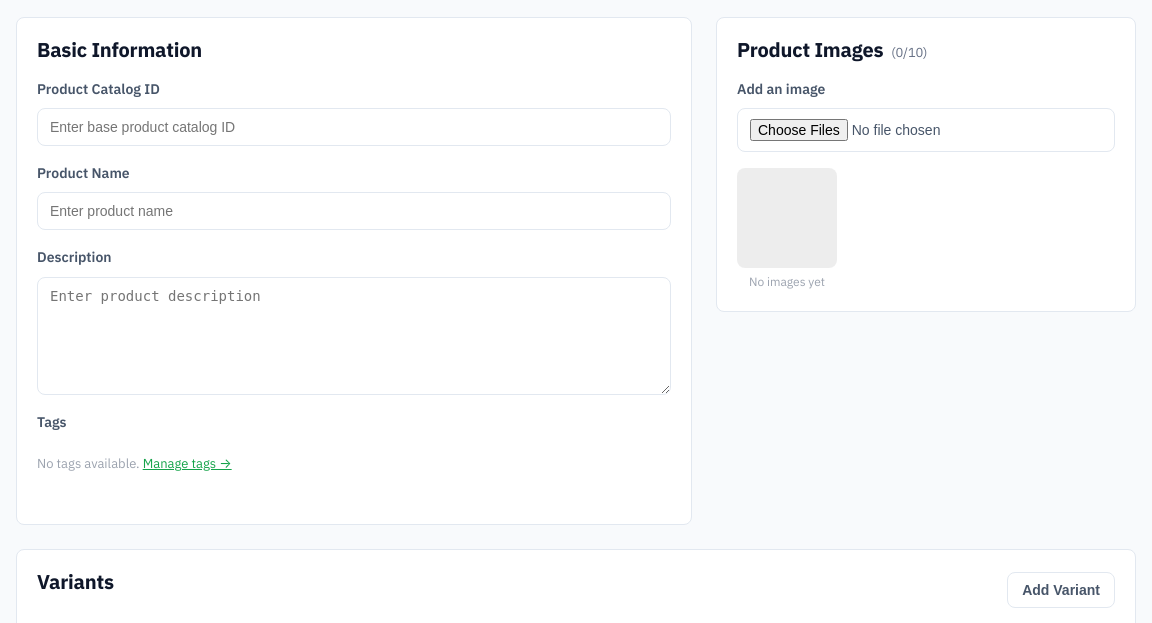
Test: AdminProductDetailPage › form validation — create mode › shows per-variant inline errors when a variant is added and submitted empty
This screenshot has width=1152, height=623.
Step 1. Click the button "Add Variant" → coordinates (1061, 590), box left=1007, top=572, right=1115, bottom=608
(page scrolled)
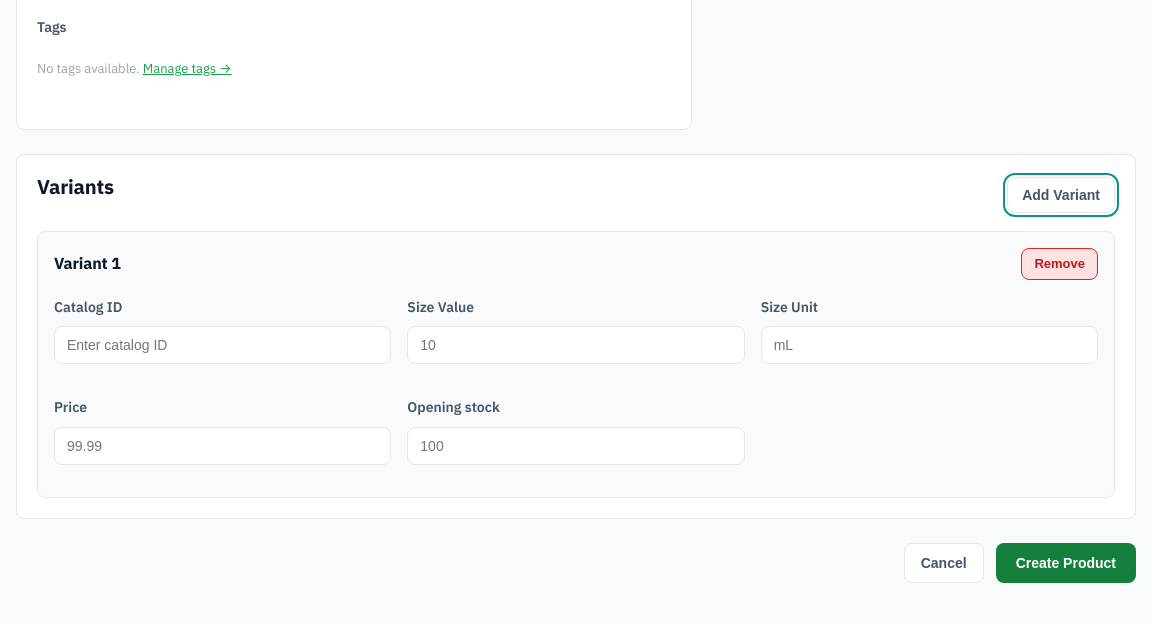
Step 2. Click the button "Create Product" → coordinates (1066, 563), box left=996, top=543, right=1136, bottom=583
(page scrolled)
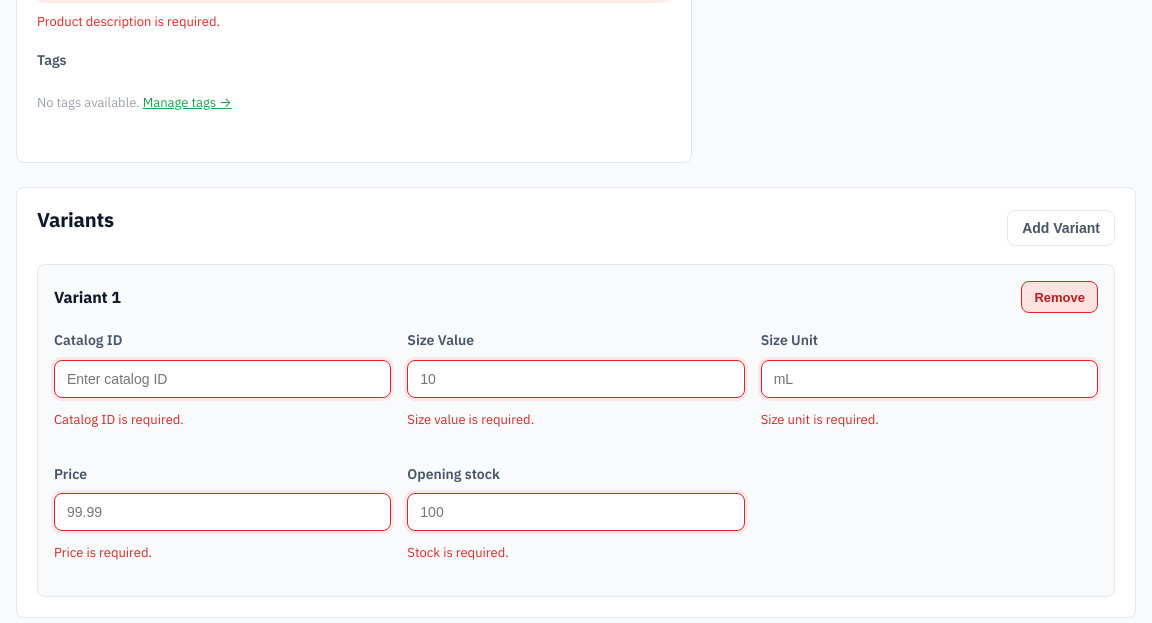
expect the text "Catalog ID is required." is shown: met, box left=54, top=411, right=184, bottom=428
expect the text "Size value is required." is shown: met, box left=407, top=411, right=534, bottom=428
